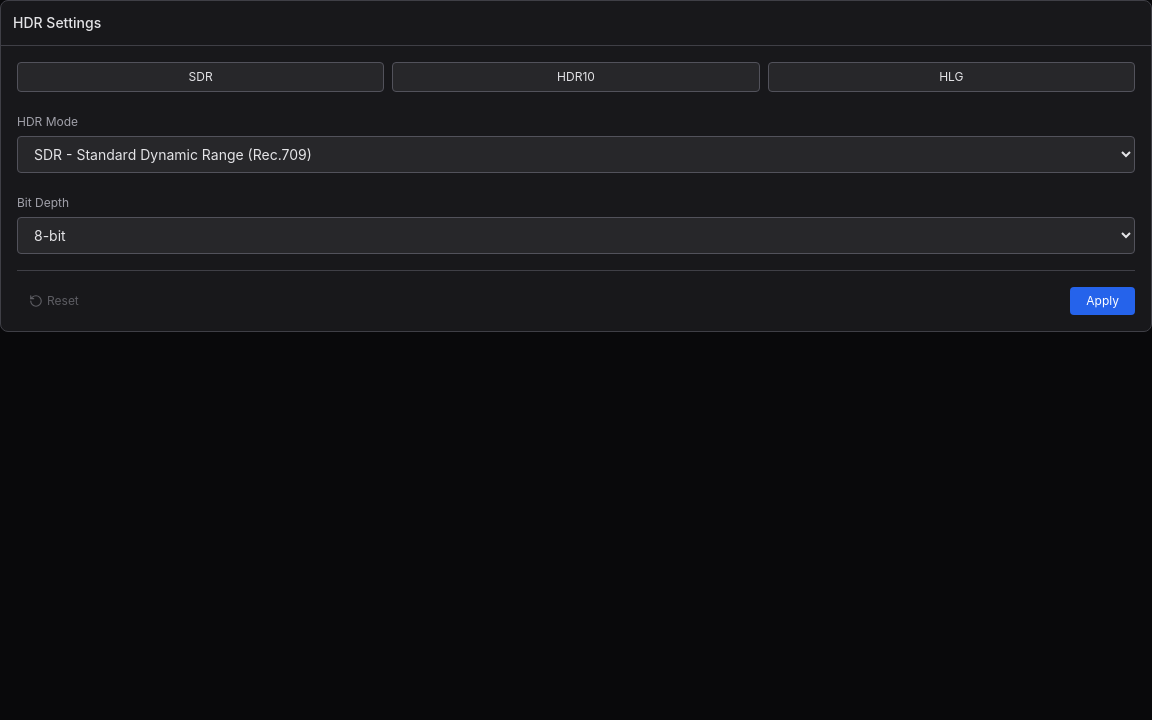
Test: HDRSettingsPanel › presets › should apply HDR10 preset
Click the button with aria-label "hdr10 preset" at [576, 77], box [392,62,760,92]
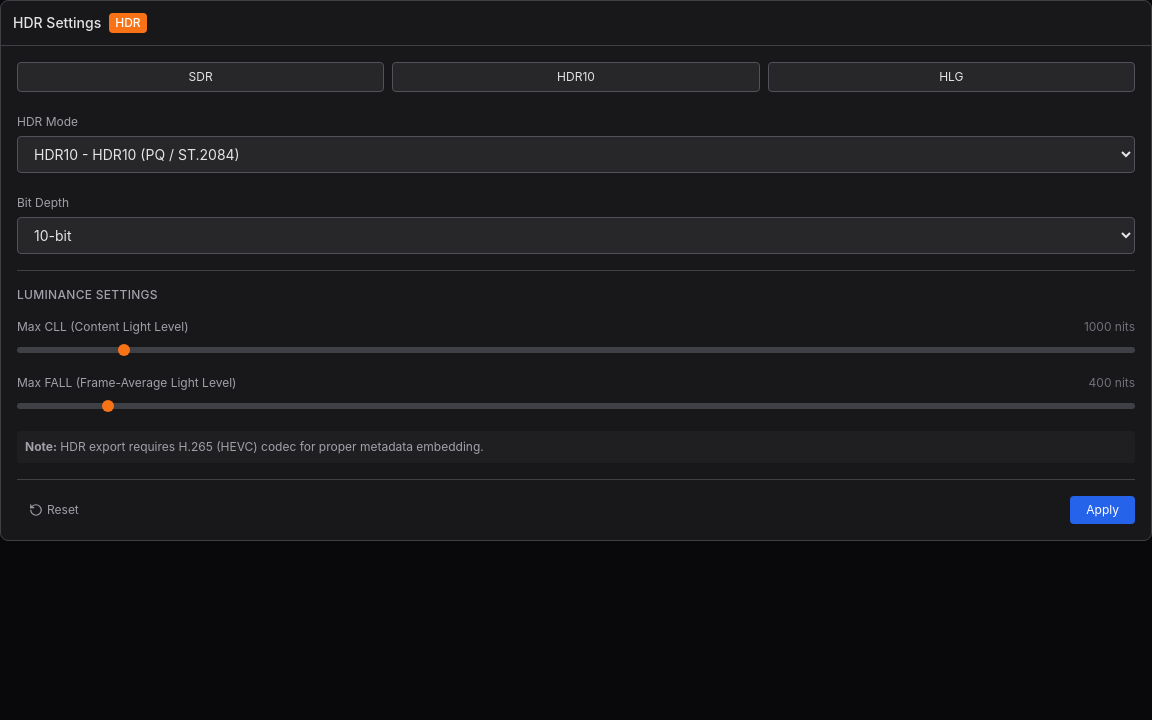
Result: the dropdown labelled "HDR Mode" shows "HDR10 - HDR10 (PQ / ST.2084)" at [17,136,1135,173]
Result: the dropdown labelled "Bit Depth" shows "10-bit" at [17,217,1135,254]
